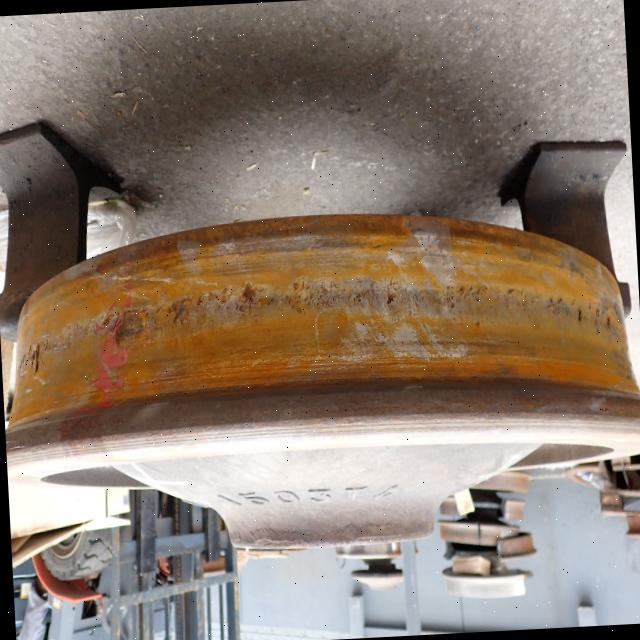Contact_Fatigue_Cracks: (198, 291, 242, 319)
Peeling: (284, 278, 379, 316), (433, 277, 493, 310), (90, 313, 126, 346), (126, 314, 147, 342), (242, 281, 259, 309), (174, 300, 193, 324), (34, 344, 42, 375), (386, 293, 399, 310), (577, 309, 585, 325), (608, 317, 615, 331)
